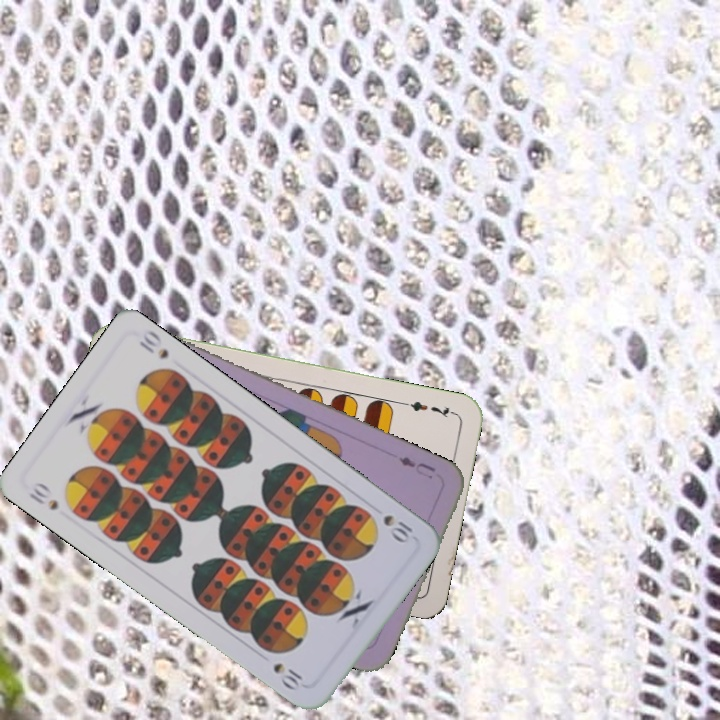E7: (399, 397, 458, 421)
EU: (394, 452, 439, 482)
S10: (379, 510, 417, 546), (25, 478, 61, 513)
